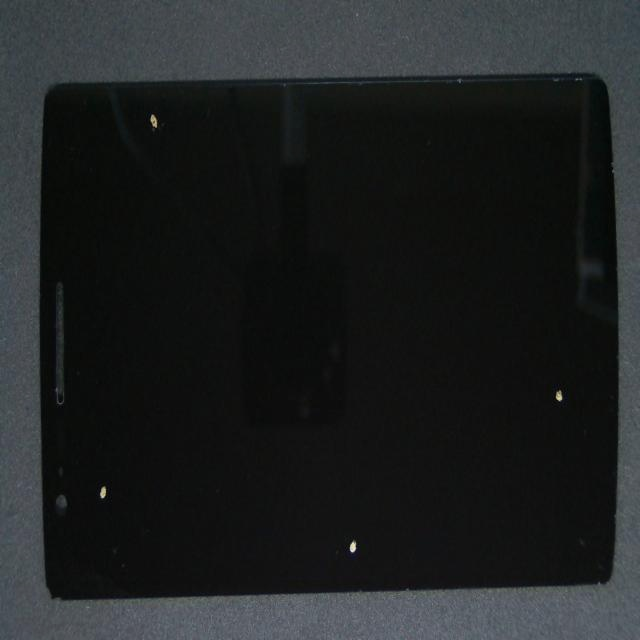stain: (172, 219, 513, 640), (297, 154, 640, 561), (49, 198, 142, 640), (109, 54, 248, 155)
